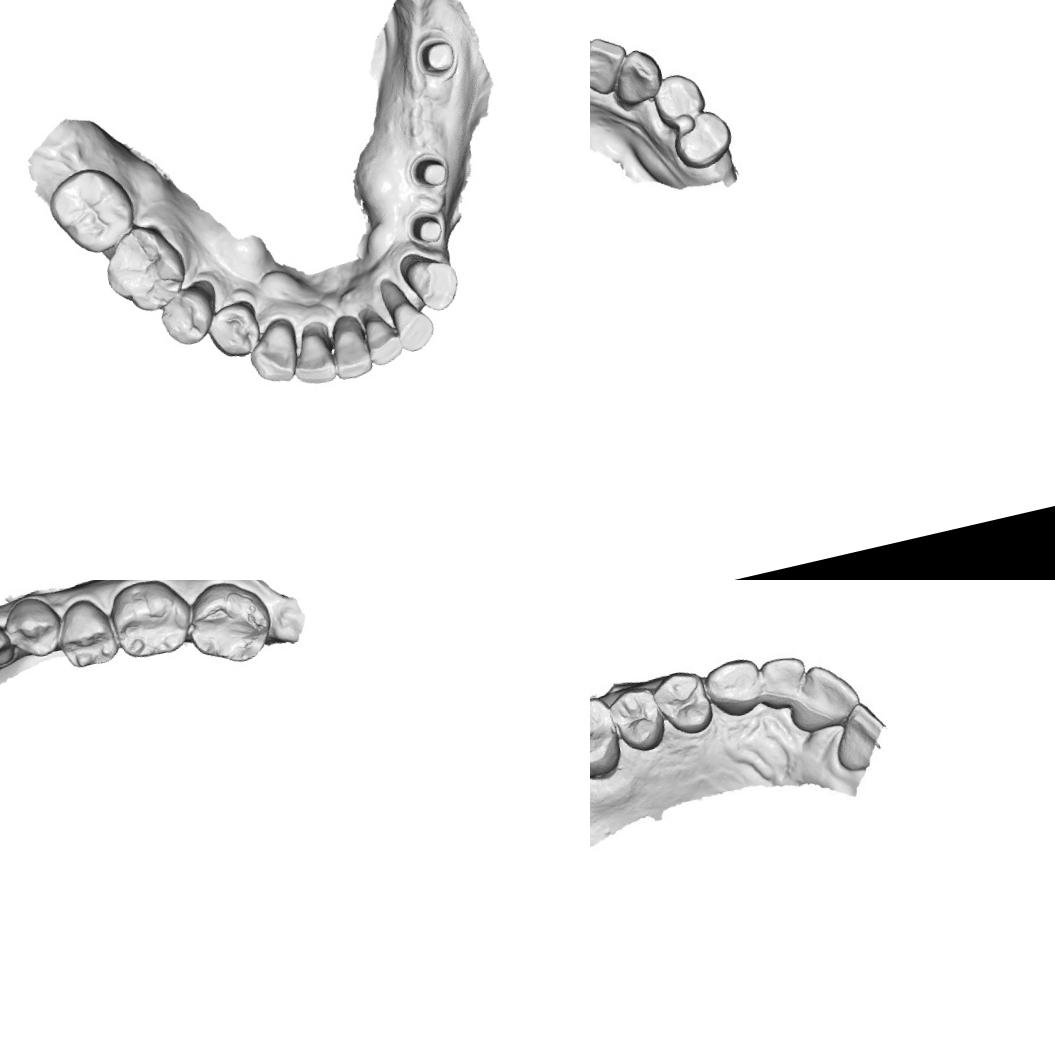abutment: (414, 34, 460, 81), (405, 150, 452, 195), (404, 207, 450, 252)
canine: (240, 319, 308, 392), (700, 654, 768, 724), (401, 248, 466, 318), (606, 44, 667, 109), (0, 616, 15, 674)
incisor: (778, 653, 867, 739), (824, 696, 898, 777), (753, 649, 816, 717), (388, 293, 442, 356), (324, 322, 377, 384), (287, 328, 338, 390), (590, 32, 637, 95), (359, 312, 408, 369)
molar: (39, 158, 143, 266), (94, 215, 198, 322), (178, 580, 274, 673), (105, 580, 197, 667), (590, 691, 627, 788)
premolar: (647, 663, 720, 743), (52, 593, 122, 676), (667, 103, 739, 175), (604, 682, 668, 758), (154, 281, 222, 352), (202, 297, 268, 365), (1, 594, 67, 662), (648, 66, 708, 130)
